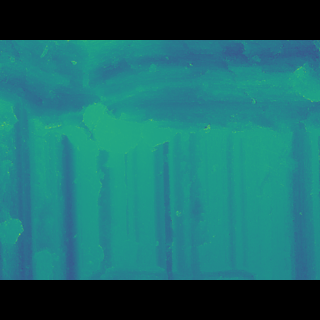Loch: (0, 68, 320, 159), (49, 130, 105, 249), (74, 221, 282, 250), (29, 225, 63, 250), (0, 203, 25, 222)
